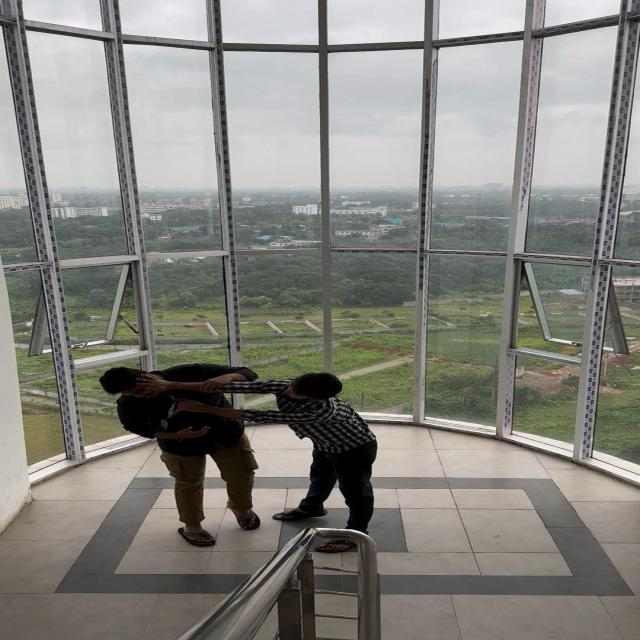fight: (88, 340, 416, 565)
